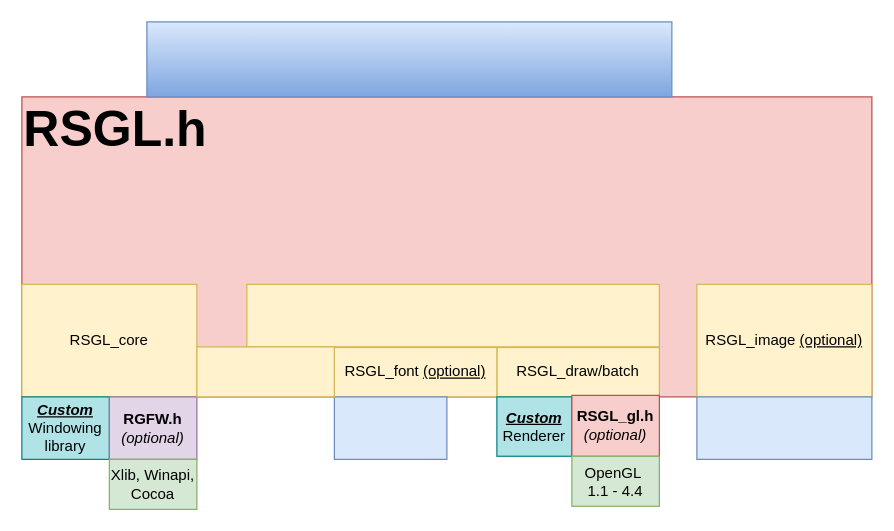
This 894x531 diagram has some shape labels left out. The centre of each missing label's shape, as x and y in pixels:
RFont.h + stb_truetype.h (optional): the point at 390,427
RSGL_shapes: the point at 452,315
RSGL_widgets (optional): the point at 265,371
stb_image.h (optional): the point at 784,427
Your GUI Software: the point at 409,59
